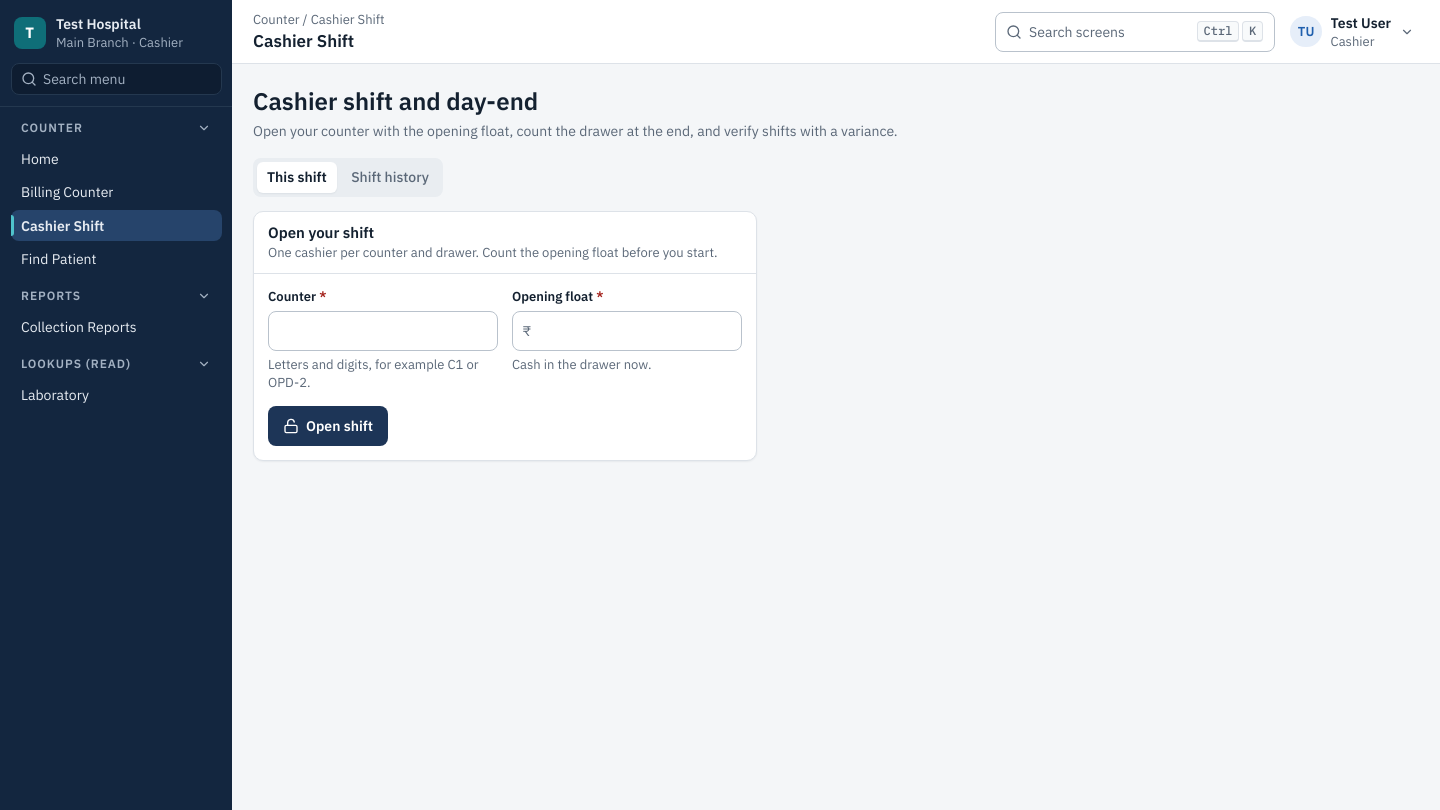
Test: Cashier shift › opens a shift with the opening float in rupees
Type "c1" into the field labelled "Counter *".
click(383, 331); type("c1")  # box top-left (268, 311), bottom-right (498, 351)
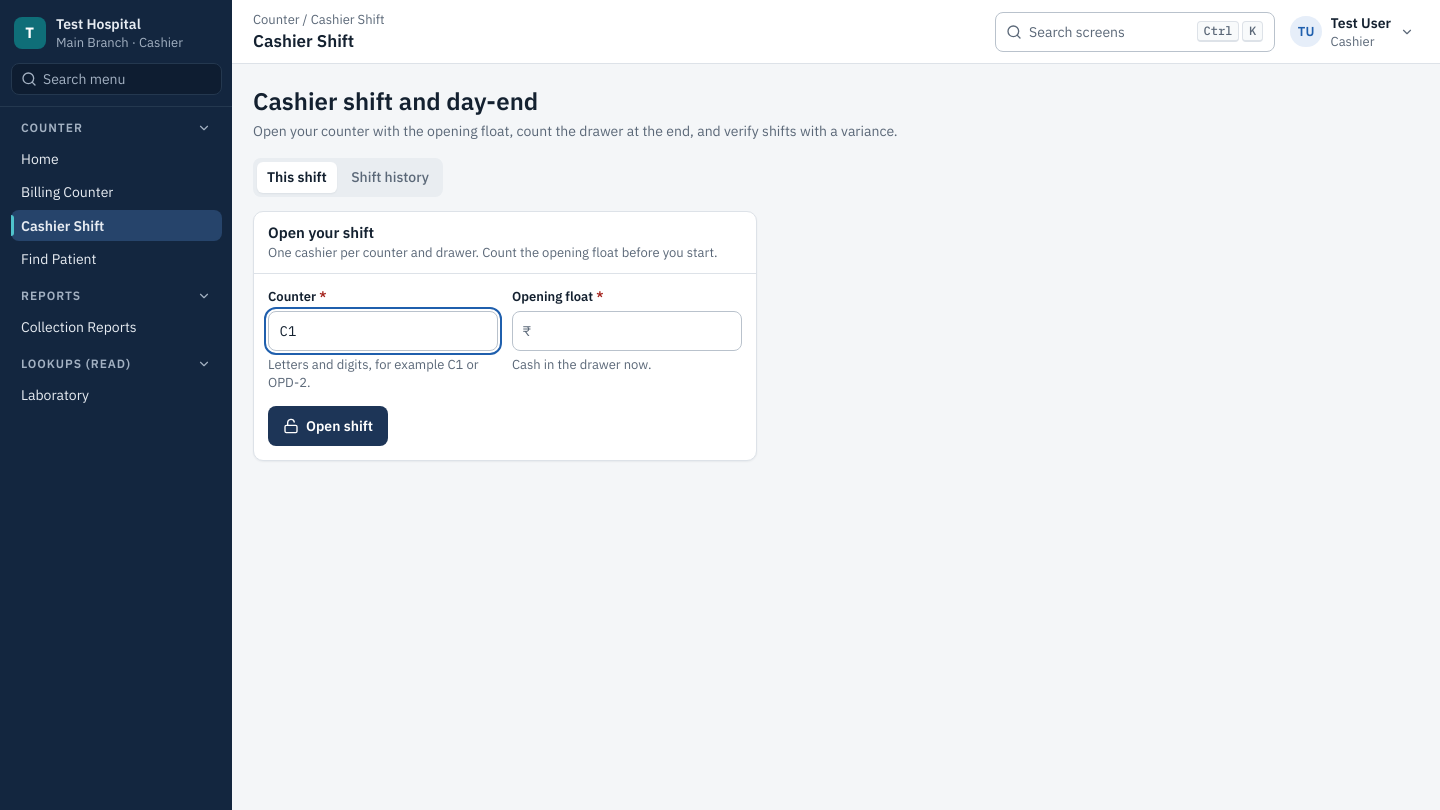
Type "5000.50" into the field labelled "Opening float *".
click(627, 331); type("5000.50")  # box top-left (512, 311), bottom-right (742, 351)
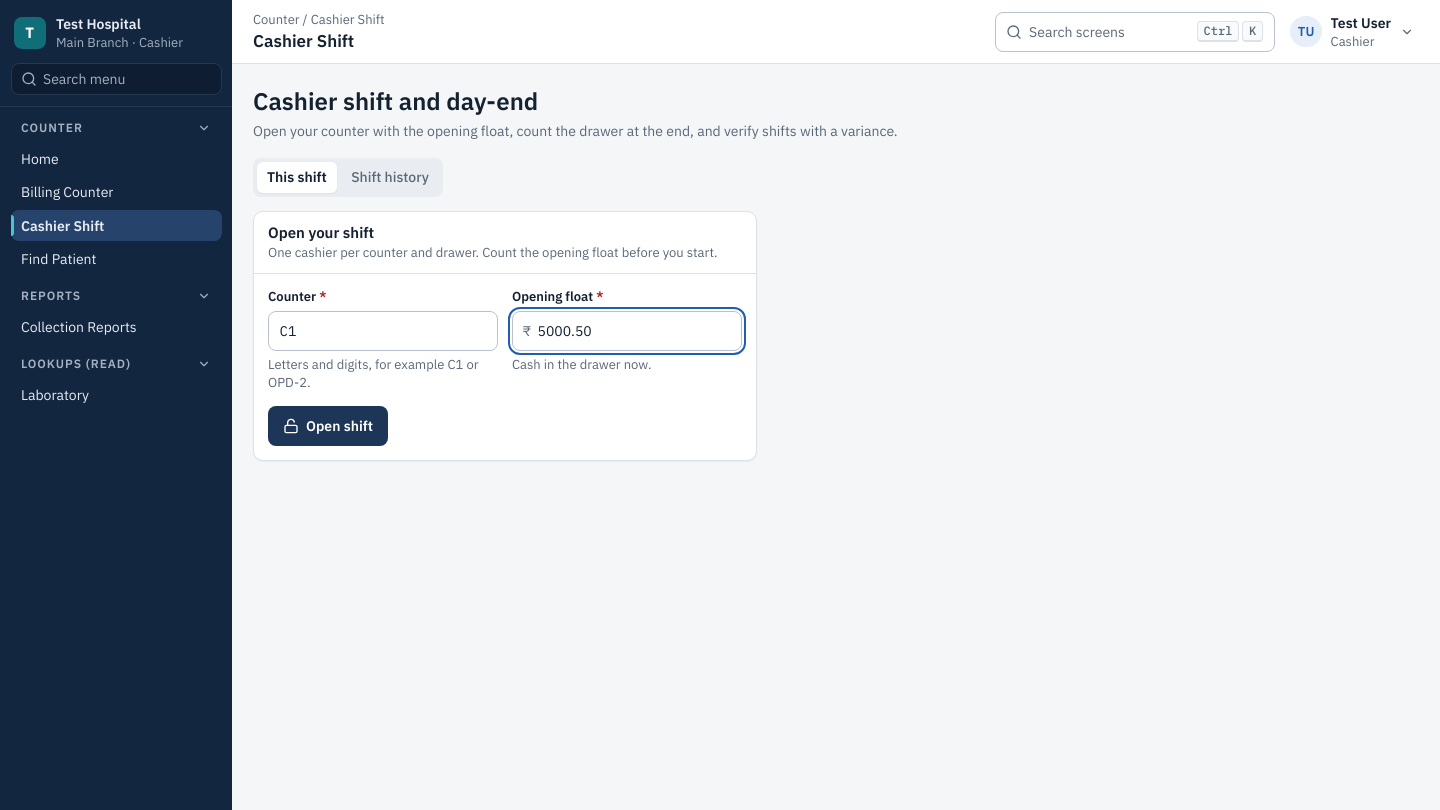
Click the button "Open shift".
click(328, 426)  # box top-left (268, 406), bottom-right (388, 446)
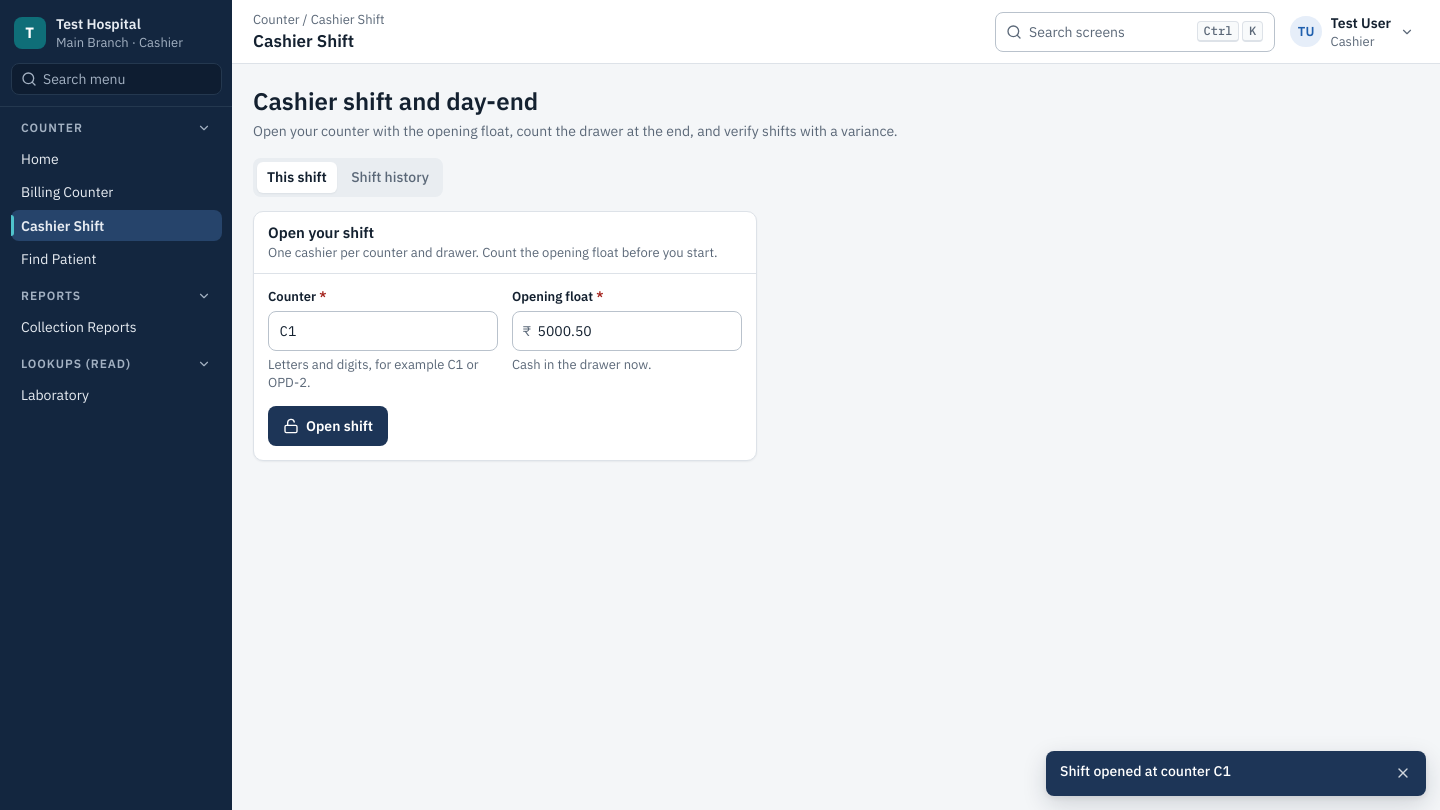
expect the text "Shift opened at counter C1" is shown: met, box top-left (1060, 762), bottom-right (1231, 780)
